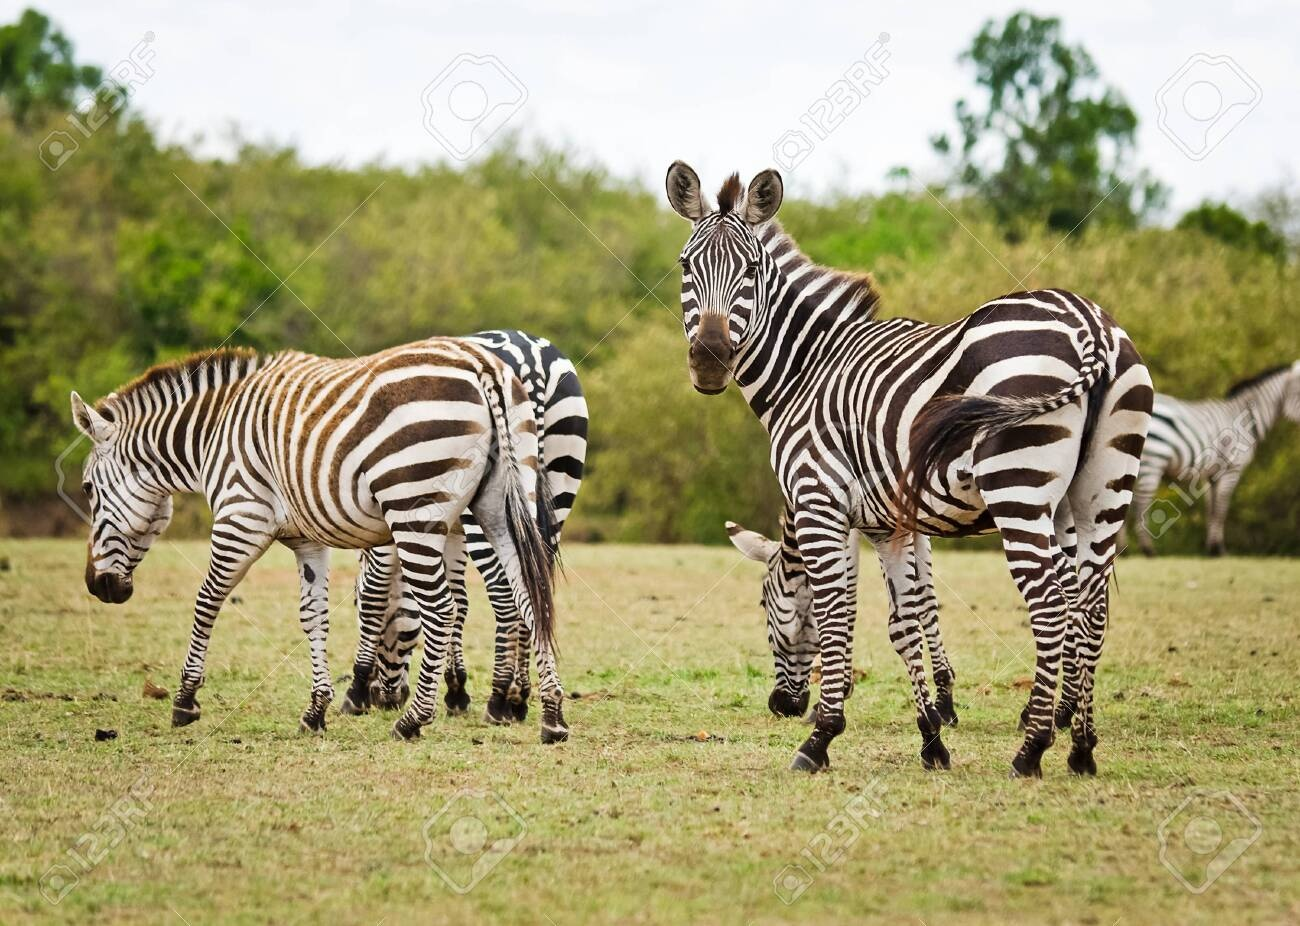zebra: (659, 150, 1157, 787), (62, 326, 572, 747)
